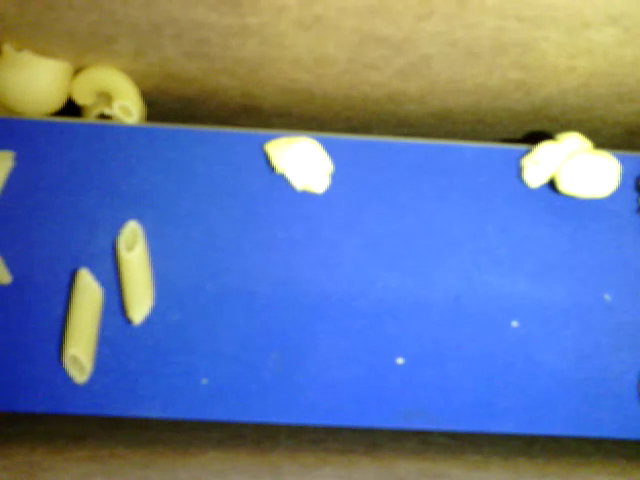elbow: (69, 63, 140, 122)
penne: (63, 267, 104, 383), (117, 220, 153, 324)
shell: (1, 43, 71, 115), (84, 90, 145, 123)
